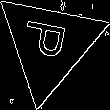P_E: (21, 21, 76, 67)
